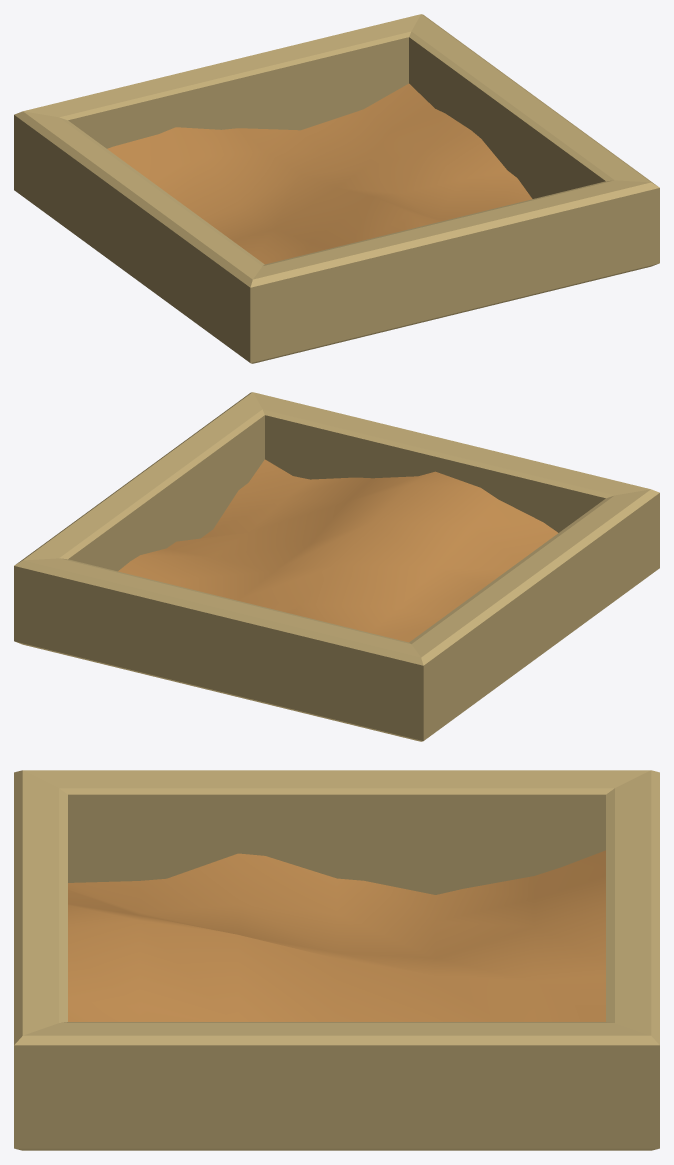
Rendered from garden_bed.glb.
3 views of the same model, one above another, from view 1: azimuth 30°, elevation 25°; view 2: azimuth 150°, elevation 25°; view 3: azimuth 270°, elevation 25° (orthographic). The views are drawn at different scales.
Parts seen in each view (by area): view 1: GardenBed.001; view 2: GardenBed.001; view 3: GardenBed.001.
Boxes of the visible parts, x1,y1,x2,y2 form: GardenBed.001: (14, 14, 659, 363); GardenBed.001: (14, 392, 659, 741); GardenBed.001: (14, 770, 659, 1150).
Bounding box in the file's own units: 1.44 × 0.3016 × 1.44.
